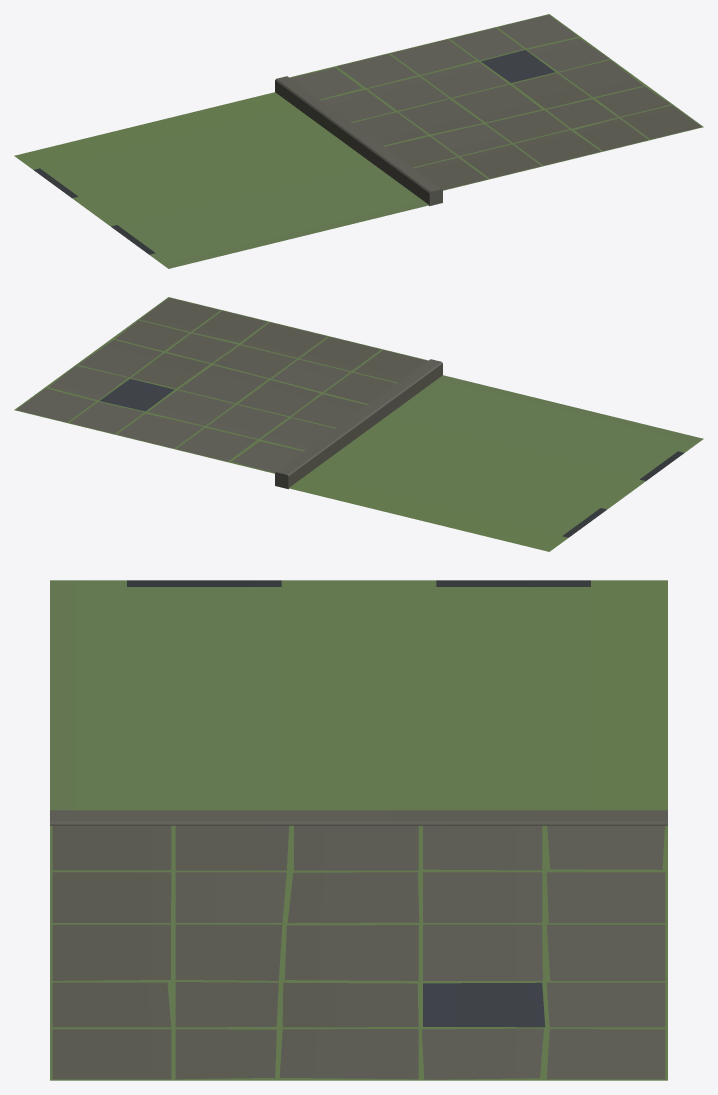
Rendered from Road_02.fbx.
The picture shows the model from 3 angles, top to bottom: view 1: azimuth 30°, elevation 25°; view 2: azimuth 150°, elevation 25°; view 3: azimuth 270°, elevation 25°; orthographic projection. The views are drawn at different scales.
Parts seen in each view (by area): view 1: Road_02; view 2: Road_02; view 3: Road_02.
Part boxes in pixels (x1,y1,x2,y2): Road_02: (14,14,703,268); Road_02: (14,297,703,551); Road_02: (50,580,667,1080).
Bounding box in the file's own units: 6 × 0.15 × 3.
